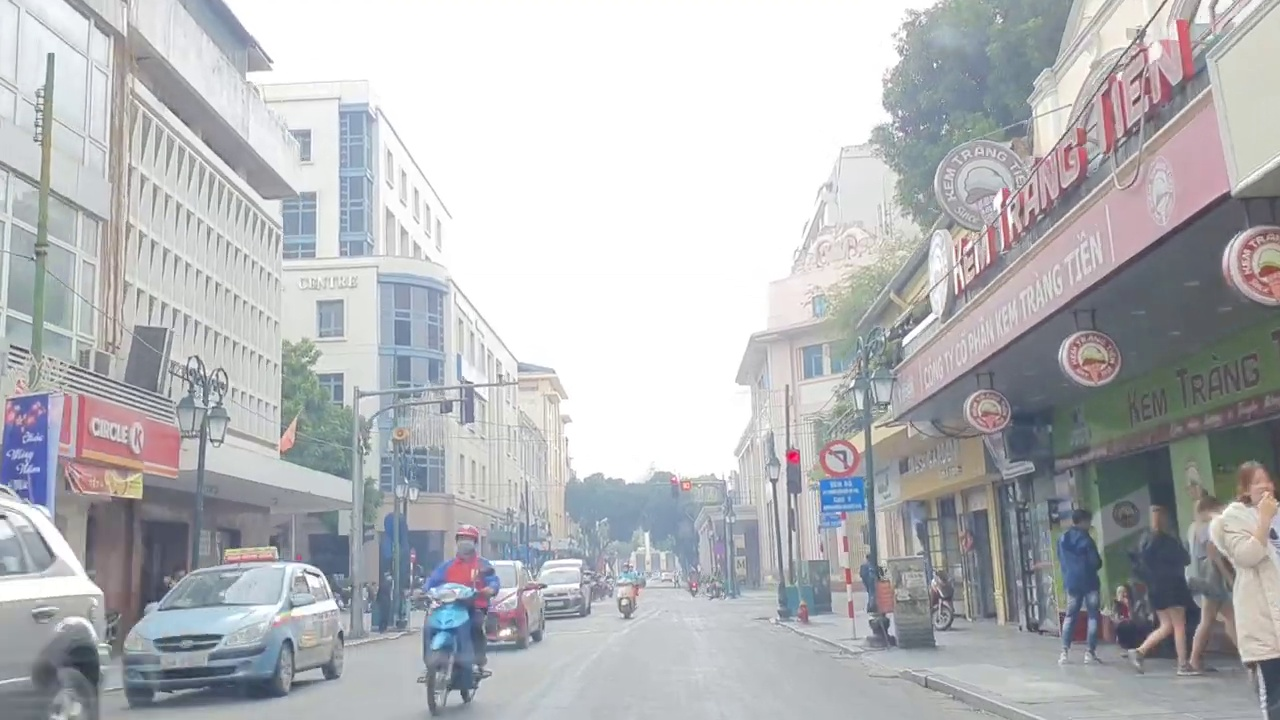vehicle-plate: (160, 653, 208, 667)
